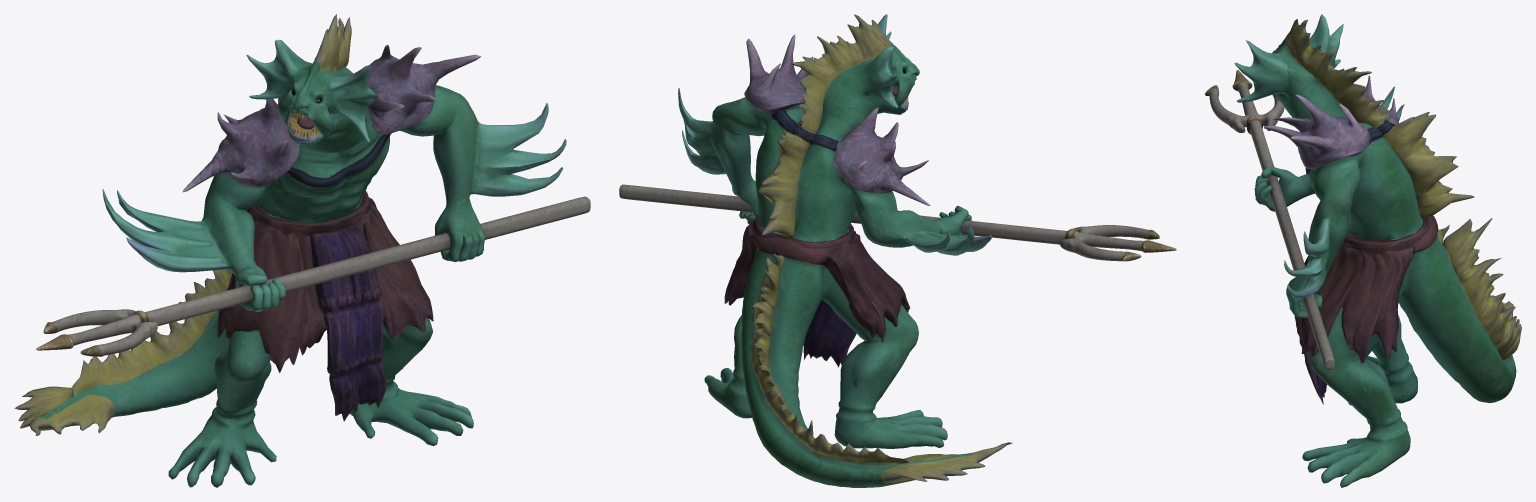
Rendered from MZ4250 - Sahuagin.glb.
The picture shows the model from 3 angles, left to right: view 1: azimuth 30°, elevation 25°; view 2: azimuth 150°, elevation 25°; view 3: azimuth 270°, elevation 25°; orthographic projection. The views are drawn at different scales.
Parts seen in each view (by area): view 1: Cube.001; view 2: Cube.001; view 3: Cube.001.
Boxes of the visible parts, x1,y1,x2,y2 form: Cube.001: [14, 14, 590, 487]; Cube.001: [619, 14, 1176, 487]; Cube.001: [1205, 14, 1521, 487].
Size of the model in its own units: 76.64 by 55.43 by 39.57.
1 material, 1 textured.
